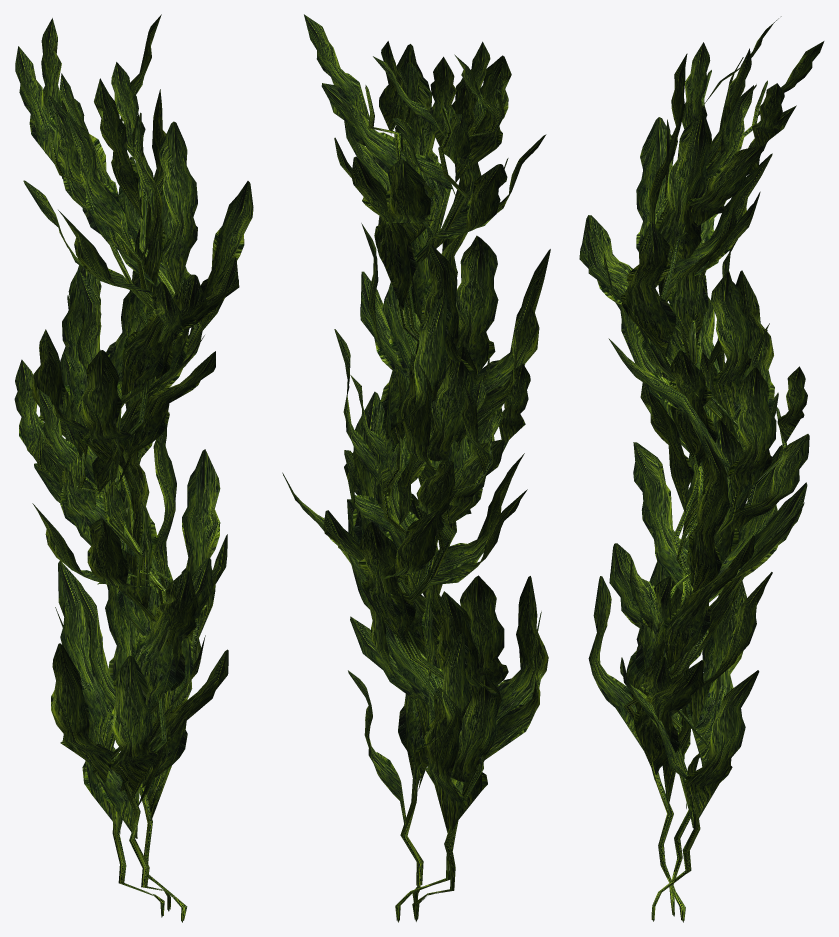
Rendered from big_plant.obj.
3 views of the same model, side by side, from view 1: azimuth 30°, elevation 25°; view 2: azimuth 150°, elevation 25°; view 3: azimuth 270°, elevation 25° (orthographic). The views are drawn at different scales.
Parts seen in each view (by area): view 1: Sketchfab_Model; view 2: Sketchfab_Model; view 3: Sketchfab_Model.
Part boxes in pixels (x1=…): Sketchfab_Model: x1=14, y1=14, x2=253, y2=922; Sketchfab_Model: x1=282, y1=14, x2=550, y2=922; Sketchfab_Model: x1=579, y1=16, x2=824, y2=922.
Bounding box in the file's own units: 0.2624 × 1.06 × 0.2739.
Materials: 1 (1 with a texture image).
